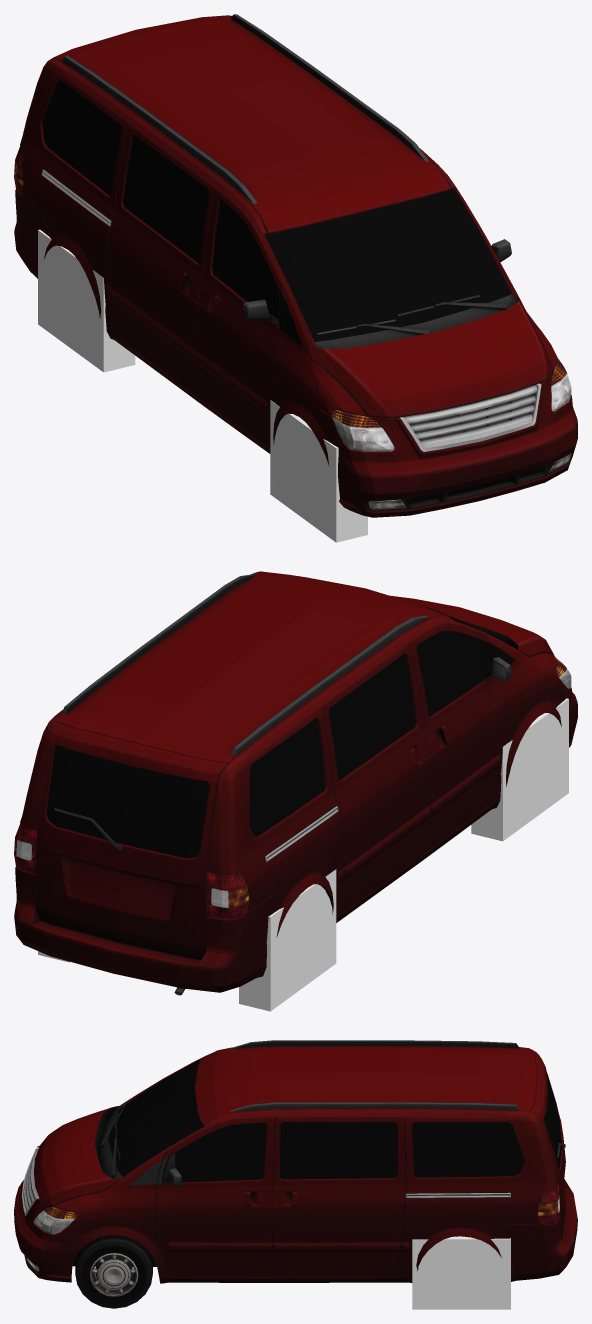
Rendered from minivan.glb.
3 views of the same model, one above another, from view 1: azimuth 30°, elevation 25°; view 2: azimuth 150°, elevation 25°; view 3: azimuth 270°, elevation 25° (orthographic). The views are drawn at different scales.
Parts seen in each view (by area): view 1: body, wheelFrontRight, wheelBackRight; view 2: body, wheelBackRight, wheelFrontRight; view 3: body, wheelBackLeft, wheelFrontLeft.
Part boxes in pixels (x1,y1,x2,y2): body: (14, 14, 577, 517); wheelFrontRight: (270, 400, 367, 542); wheelBackRight: (38, 229, 135, 372); body: (14, 571, 577, 995); wheelBackRight: (239, 869, 336, 1011); wheelFrontRight: (471, 698, 568, 841); body: (14, 1040, 577, 1283); wheelBackLeft: (412, 1236, 510, 1309); wheelFrontLeft: (75, 1235, 152, 1308).
Size of the model in its own units: 1.87 by 1.76 by 4.61.
Materials: 5 (3 with a texture image).
